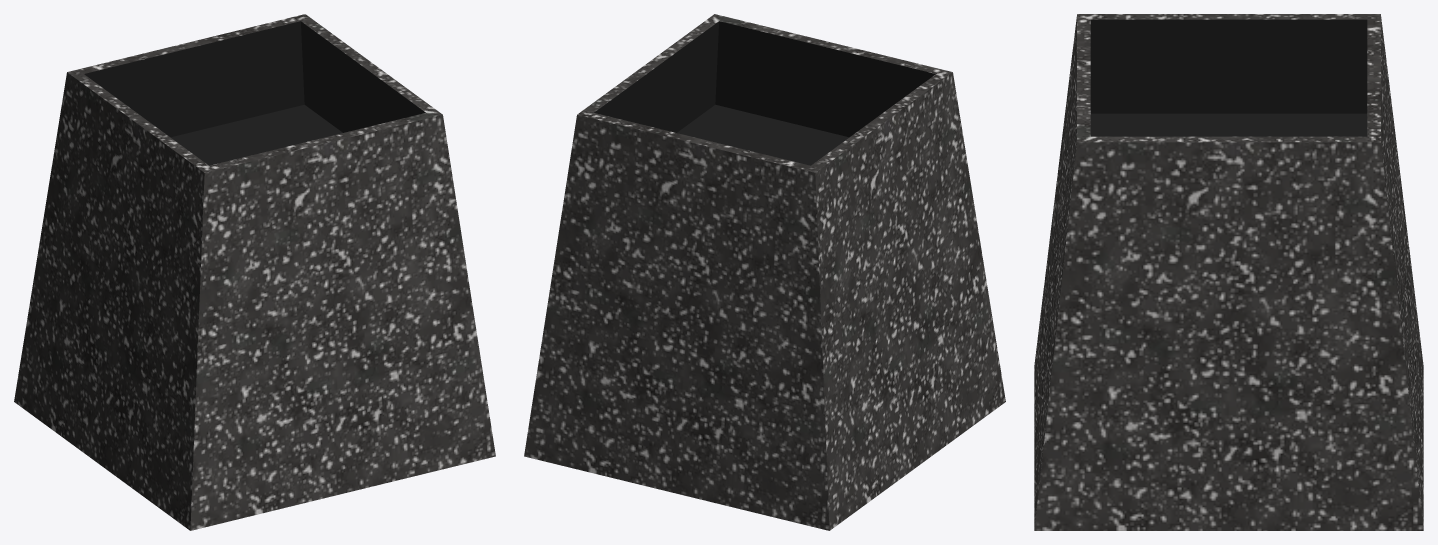
File: black_pawn.glb
3 views of the same model, side by side, from view 1: azimuth 30°, elevation 25°; view 2: azimuth 150°, elevation 25°; view 3: azimuth 270°, elevation 25° (orthographic). The views are drawn at different scales.
Parts seen in each view (by area): view 1: Black_Pawn; view 2: Black_Pawn; view 3: Black_Pawn.
Part boxes in pixels (x1,y1,x2,y2): Black_Pawn: [14, 14, 495, 530]; Black_Pawn: [524, 14, 1005, 530]; Black_Pawn: [1034, 14, 1423, 530].
Bounding box in the file's own units: 0.034 × 0.0357 × 0.034.
Materials: 2 (1 with a texture image).
